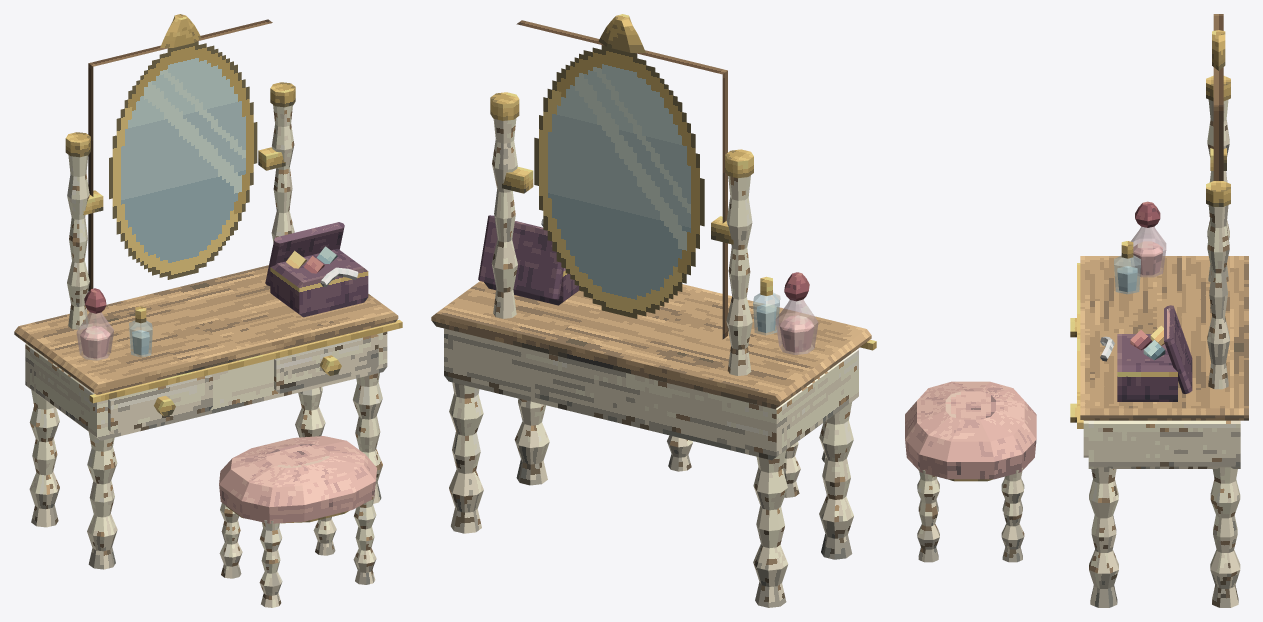
Rendered from vanity.glb.
3 views of the same model, side by side, from view 1: azimuth 30°, elevation 25°; view 2: azimuth 150°, elevation 25°; view 3: azimuth 270°, elevation 25° (orthographic). The views are drawn at different scales.
Parts seen in each view (by area): view 1: mirror, top, stoolcush, apron, jewelbox, drawer1, drawer, leg1, post, leg, trim, post1 (+13 smaller); view 2: mirror, top, apron, leg, post, leg2, leg1, post1, jewellid, leg3, glass_perfume, crest (+8 smaller); view 3: top, stoolcush, apron, leg2, leg3, post1, jewelbox, sleg3, sleg2, jewellid, mirror, glass_perfume (+8 smaller).
Part boxes in pixels (<box>): mirror: <box>88,19,272,291</box>; top: <box>14,265,398,394</box>; stoolcush: <box>219,436,376,523</box>; apron: <box>25,331,387,440</box>; jewelbox: <box>270,249,368,317</box>; drawer1: <box>274,334,378,393</box>; drawer: <box>108,374,212,433</box>; leg1: <box>87,432,117,569</box>; post: <box>67,155,89,329</box>; leg: <box>29,389,59,527</box>; trim: <box>89,319,402,403</box>; post1: <box>271,105,294,242</box>; mirror: <box>516,20,727,339</box>; top: <box>431,281,871,409</box>; apron: <box>444,328,858,460</box>; leg: <box>753,450,788,607</box>; post: <box>726,175,752,375</box>; leg2: <box>449,382,483,533</box>; leg1: <box>819,402,853,559</box>; post1: <box>491,118,517,318</box>; jewellid: <box>478,215,563,299</box>; leg3: <box>514,398,549,485</box>; glass_perfume: <box>775,299,818,354</box>; crest: <box>598,14,645,52</box>; top: <box>1080,256,1248,420</box>; stoolcush: <box>905,381,1036,479</box>; apron: <box>1088,420,1240,468</box>; leg2: <box>1210,467,1240,607</box>; leg3: <box>1089,467,1118,607</box>; post1: <box>1207,205,1229,389</box>; jewelbox: <box>1117,334,1177,401</box>; sleg3: <box>917,468,939,562</box>; sleg2: <box>1001,468,1024,562</box>; jewellid: <box>1164,305,1192,393</box>; mirror: <box>1213,14,1223,180</box>; glass_perfume: <box>1131,227,1166,277</box>.
Bounding box in the file's own units: 1.4 × 2.05 × 1.28.
2 materials, 2 textured.
